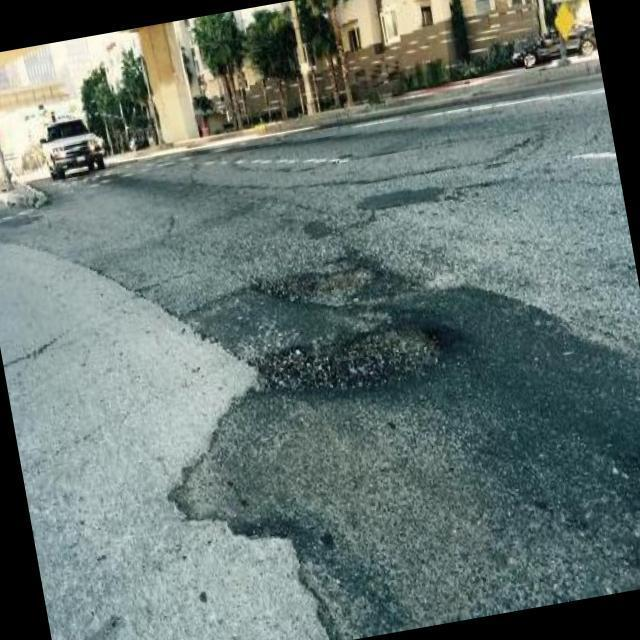Pothole: (255, 327, 444, 397), (249, 255, 420, 308)
